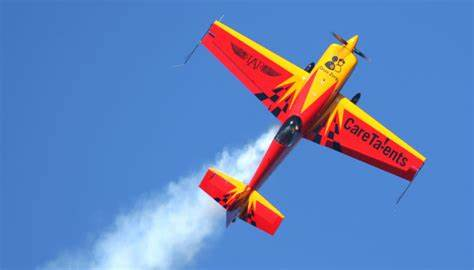Aeronef_de_loisir: (174, 8, 440, 238)
